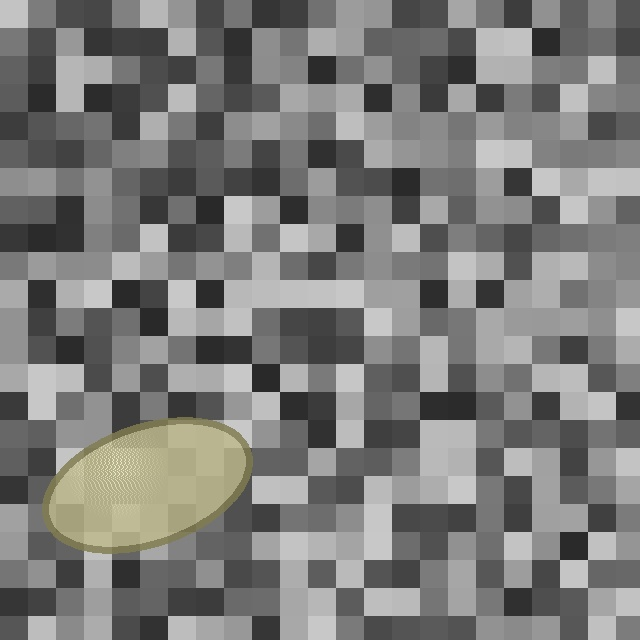lens: (45, 420, 249, 550)
